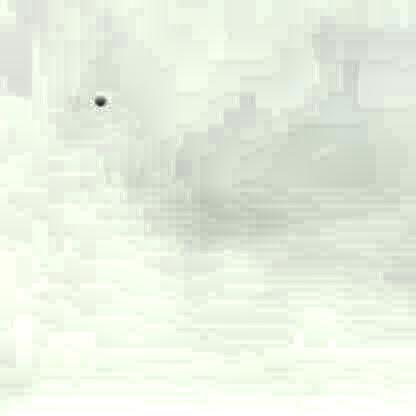golfball: (93, 93, 104, 104)
